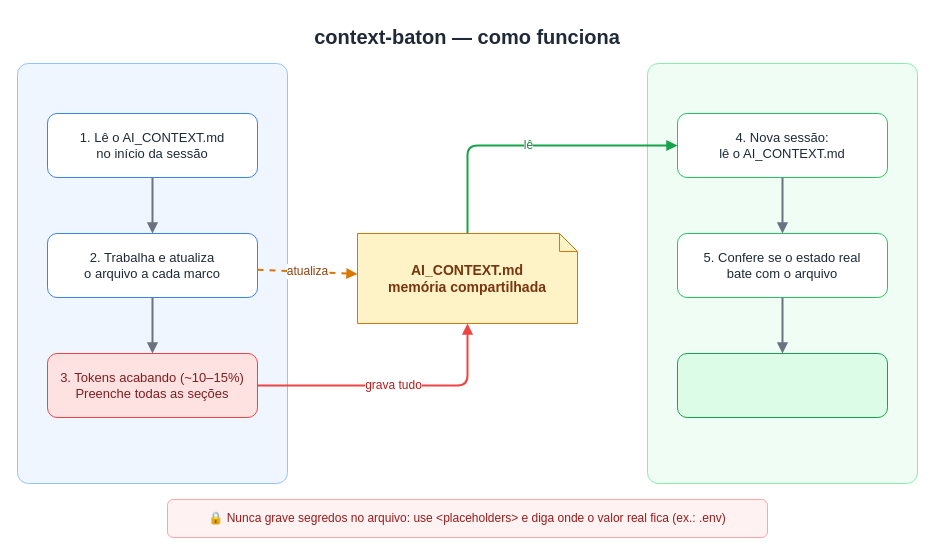
This 935x555 diagram has some shape labels left out. The box of each missing label's shape, as (x1, y1, x2, y2) in pixels:
6. Continua a partir de “Próximos passos”: (676, 352, 888, 418)
Sessão 1 · IA 1: (16, 62, 288, 484)
Sessão 2 · IA 2: (646, 62, 918, 484)
